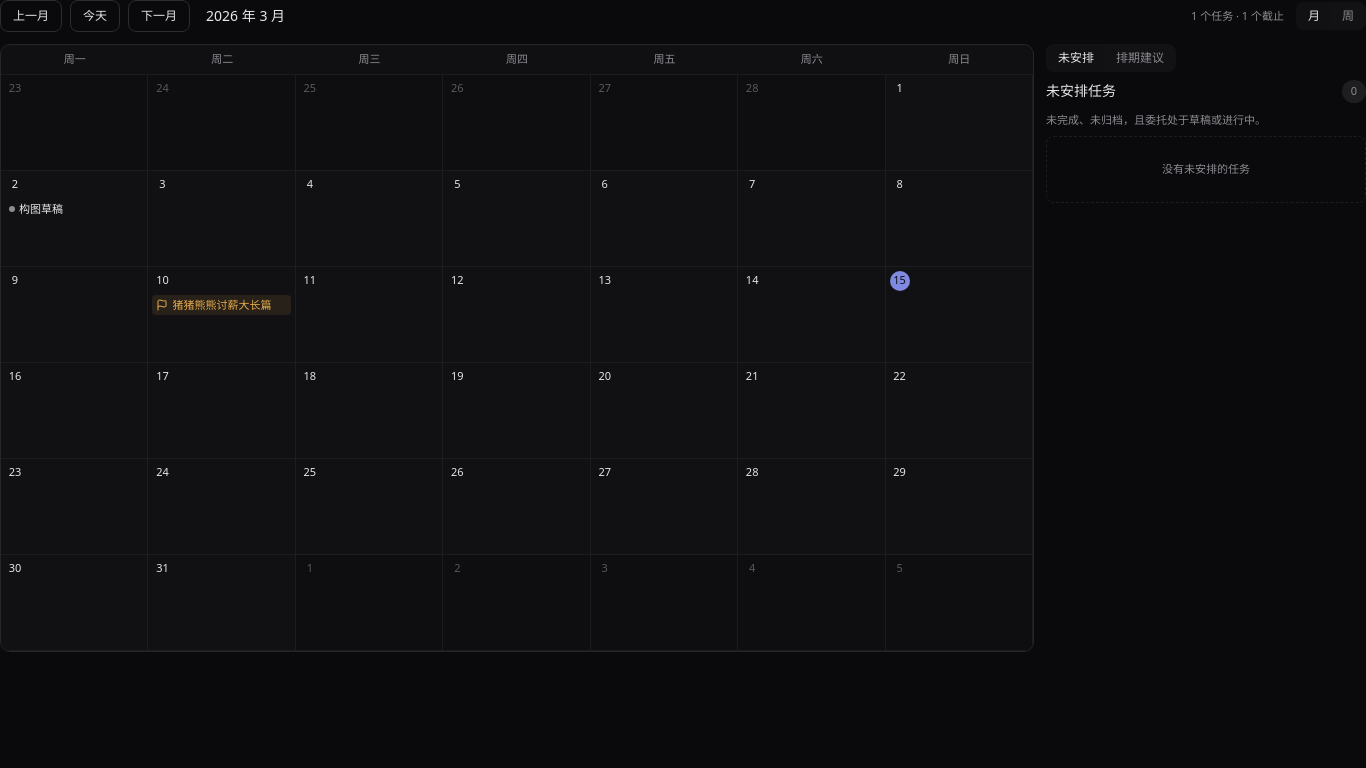
Scenario: 日历页：手动排期 › 过去日期给出补录提示
Click the button with test id "calendar-task" at (74, 209), box [5,198,143,219]
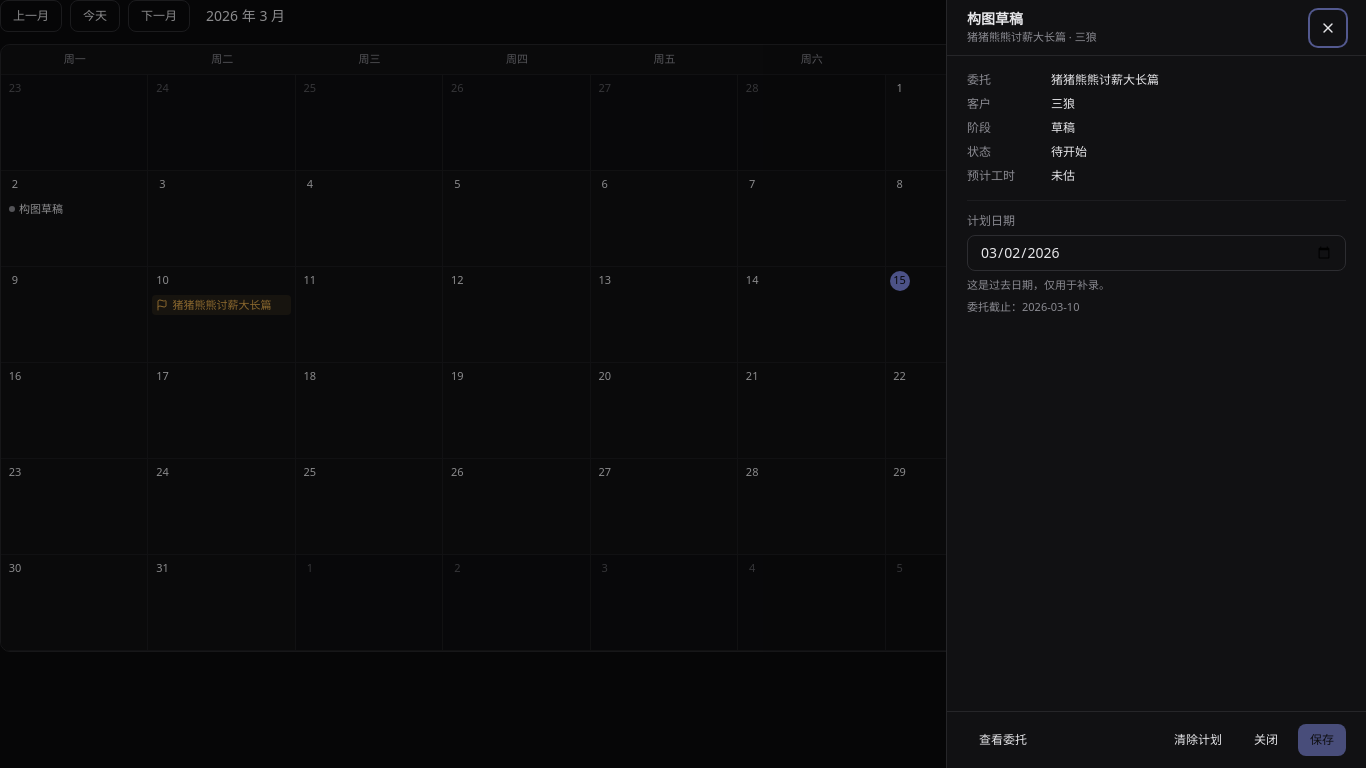
expect the text "这是过去日期，仅用于补录。" is shown: met, box [967,277,1110,292]
